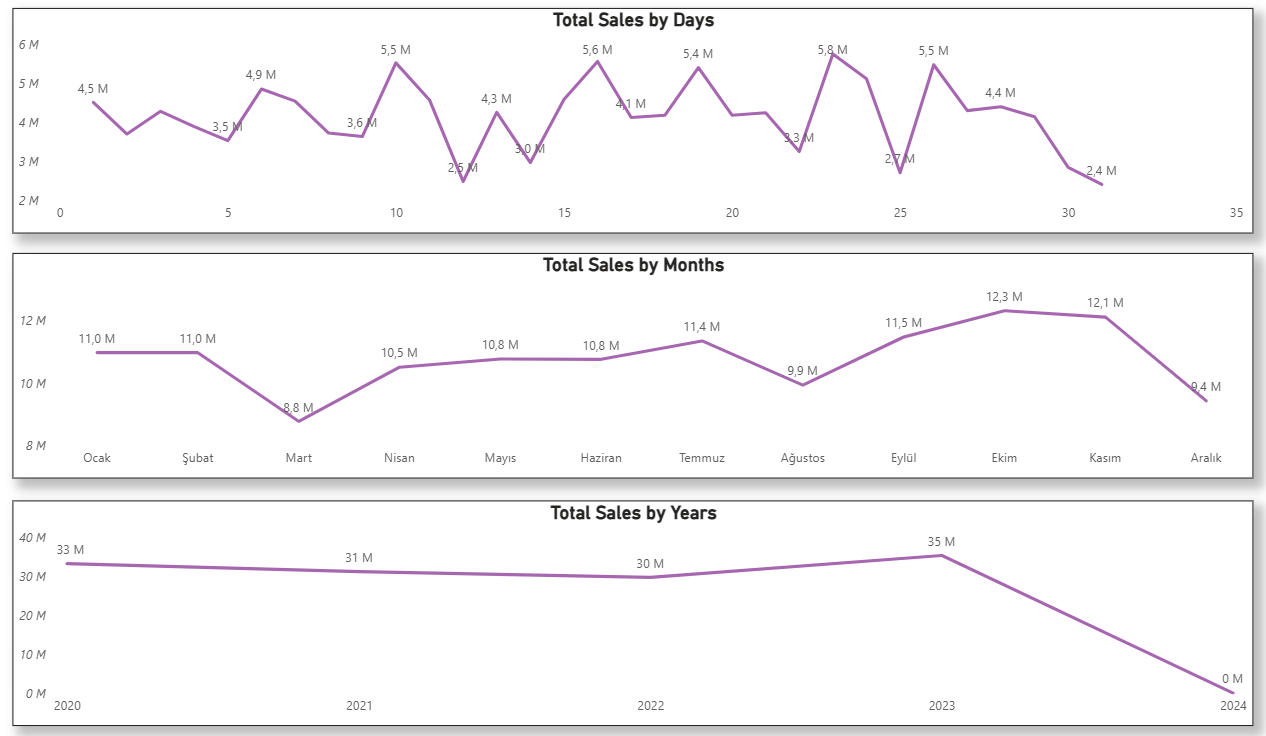

The dashboard page shown, as its layout file describes it:
{"tool":"powerbi","page":{"name":"Sales Trends Over Time","canvas":[1280,720],"ordinal":2},"visuals":[{"type":"lineChart","title":"Total Sales by Years","fields":{"Category":["Date Table 1.Date 1.Varyasyon.Tarih Hiyerarşisi.Yıl","Date Table 1.Date 1.Varyasyon.Tarih Hiyerarşisi.Çeyrek","Date Table 1.Date 1.Varyasyon.Tarih Hiyerarşisi.Ay","Date Table 1.Date 1.Varyasyon.Tarih Hiyerarşisi.Gün"],"Y":["Sum(Fact Table.Total Sales  )"]},"box":[41.2,490,1197.5,217.5],"z":0},{"type":"lineChart","title":"Total Sales by Months","fields":{"Category":["Date Table 1.Date 1.Varyasyon.Tarih Hiyerarşisi.Yıl","Date Table 1.Date 1.Varyasyon.Tarih Hiyerarşisi.Çeyrek","Date Table 1.Date 1.Varyasyon.Tarih Hiyerarşisi.Ay","Date Table 1.Date 1.Varyasyon.Tarih Hiyerarşisi.Gün"],"Y":["Sum(Fact Table.Total Sales  )"]},"box":[41.2,251.2,1197.5,217.5],"z":1000},{"type":"lineChart","title":"Total Sales by Days","fields":{"Category":["Date Table 1.Date 1.Varyasyon.Tarih Hiyerarşisi.Yıl","Date Table 1.Date 1.Varyasyon.Tarih Hiyerarşisi.Çeyrek","Date Table 1.Date 1.Varyasyon.Tarih Hiyerarşisi.Ay","Date Table 1.Date 1.Varyasyon.Tarih Hiyerarşisi.Gün"],"Y":["Sum(Fact Table.Total Sales  )"]},"box":[41.2,15,1197.5,217.5],"z":2000}]}

Visuals, with their boxes on the page's 1280x720 design canvas (x1, y1, x2, y2). These are canvas units, not pixel positions in the 1266x736 screenshot, which may show the page scaled, cropped or inside an application window:
"Total Sales by Years" lineChart: (left=41, top=490, right=1239, bottom=708)
"Total Sales by Months" lineChart: (left=41, top=251, right=1239, bottom=469)
"Total Sales by Days" lineChart: (left=41, top=15, right=1239, bottom=232)
